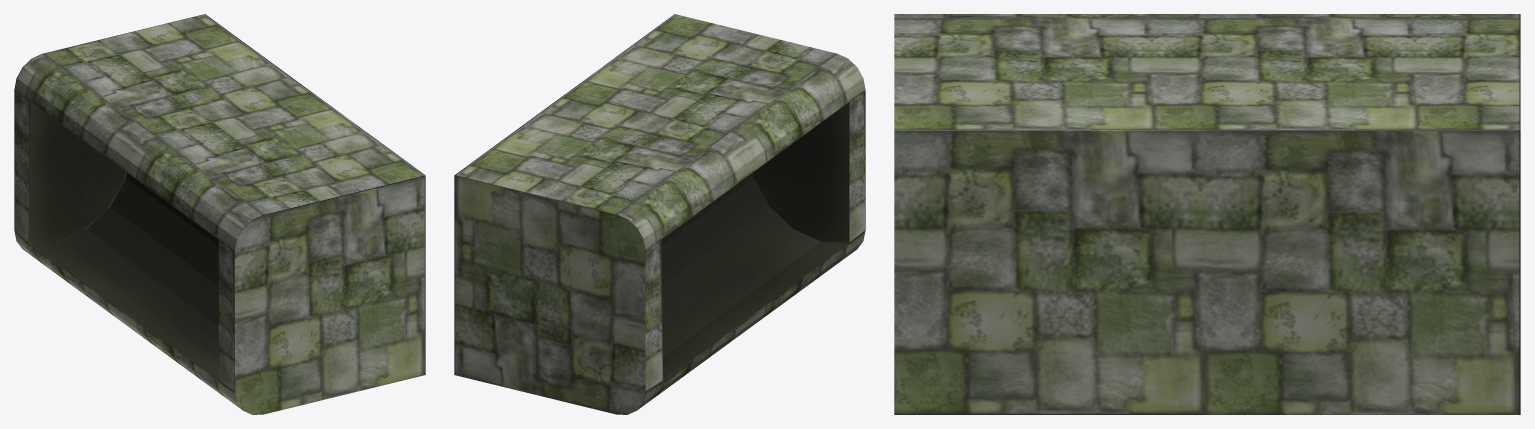
The model's file is RollingLogDispenser.fbx.
3 renders of one model, left to right at view 1: azimuth 30°, elevation 25°; view 2: azimuth 150°, elevation 25°; view 3: azimuth 270°, elevation 25°, orthographic. The views are drawn at different scales.
Visible parts, largest first — view 1: Dispenser; view 2: Dispenser; view 3: Dispenser.
Boxes of the visible parts, x1,y1,x2,y2 form: Dispenser: [14, 14, 425, 414]; Dispenser: [454, 14, 865, 414]; Dispenser: [894, 14, 1520, 414].
Size of the model in its own units: 202 by 200 by 400.
